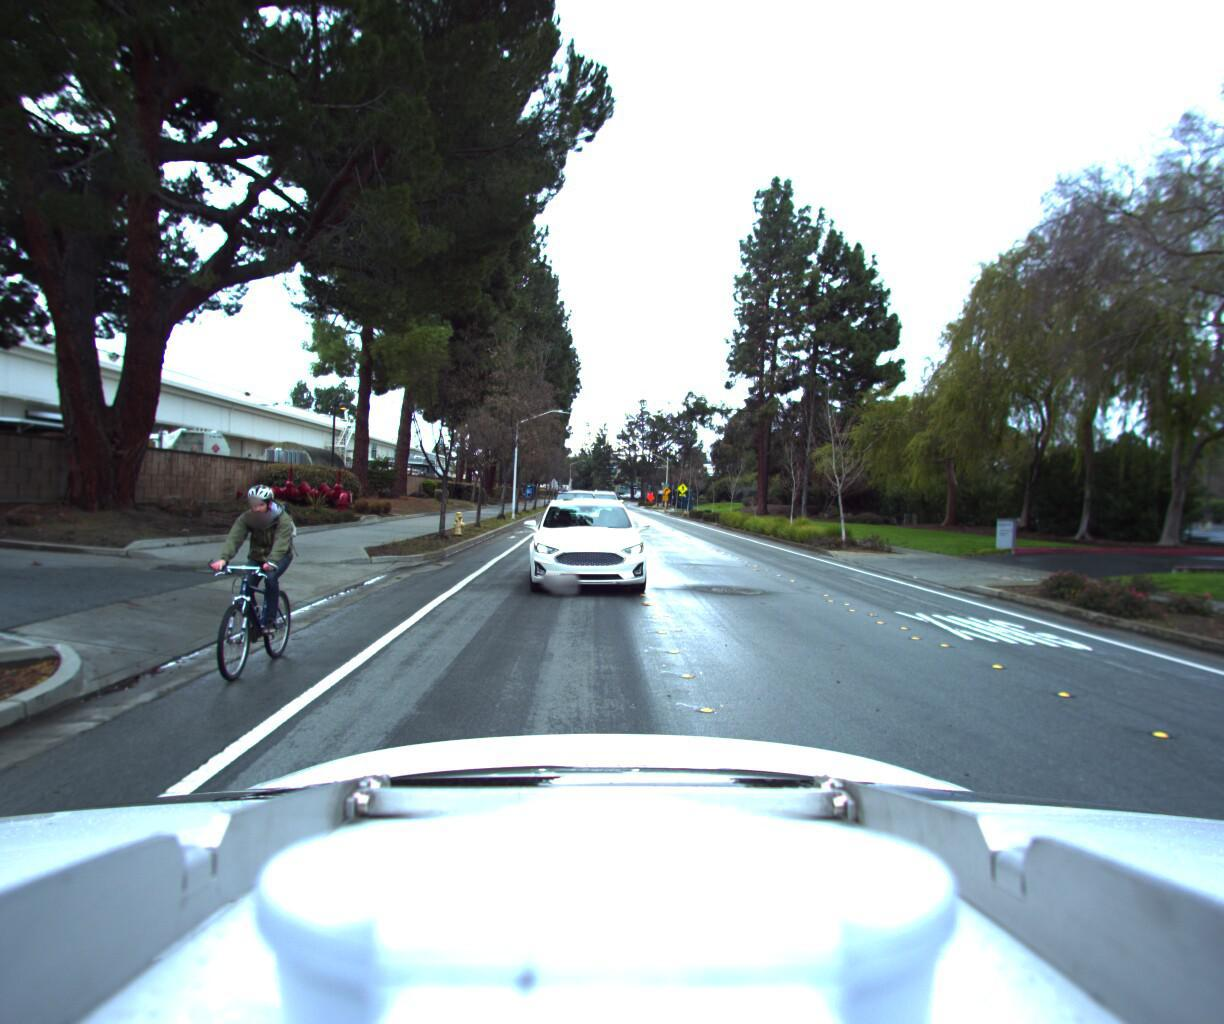bicycle: (165, 474, 324, 683)
car: (524, 489, 654, 601), (546, 487, 600, 537), (582, 490, 628, 531)
